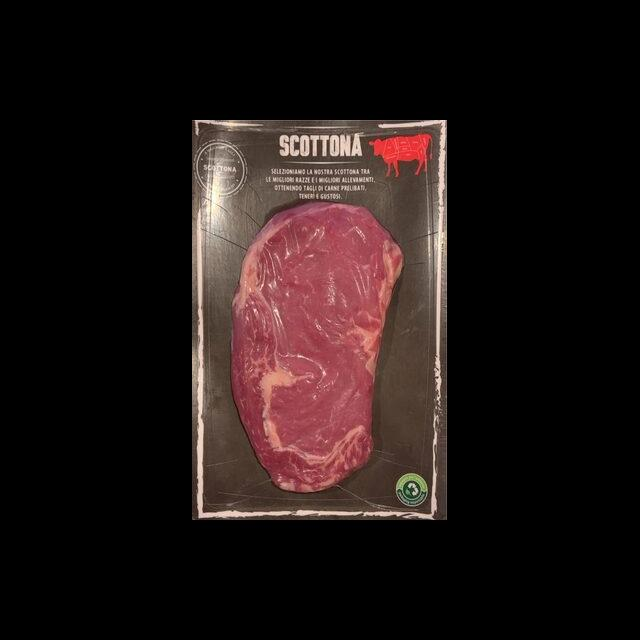beef: (232, 201, 404, 492)
